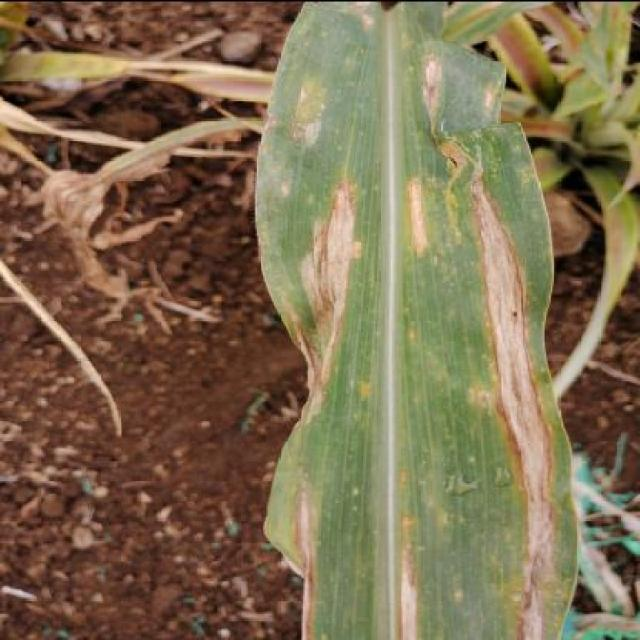Corn_Leaf_Blight: (253, 0, 562, 640)
